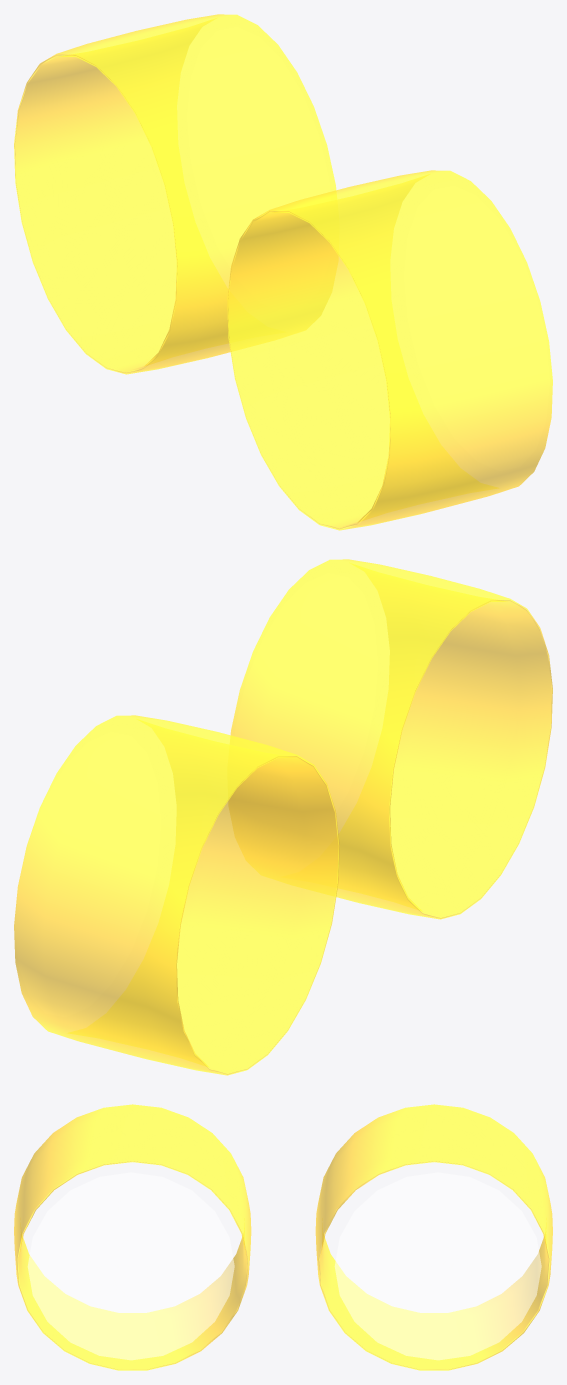
The model's file is mig25afterburner.glb.
3 views of the same model, one above another, from view 1: azimuth 30°, elevation 25°; view 2: azimuth 150°, elevation 25°; view 3: azimuth 270°, elevation 25° (orthographic). The views are drawn at different scales.
Parts seen in each view (by area): view 1: Torus (×2); view 2: Torus (×2); view 3: Sphere (×2), Torus (×2).
Part boxes in pixels (<box>): Torus (×2): <box>14,14,552,530</box>; Torus (×2): <box>14,559,552,1075</box>; Sphere (×2): <box>27,1172,541,1360</box>; Torus (×2): <box>14,1104,552,1370</box>.
Size of the model in its own units: 0.7844 by 1.33 by 3.02.
